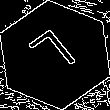L_SE: (26, 26, 84, 84)
